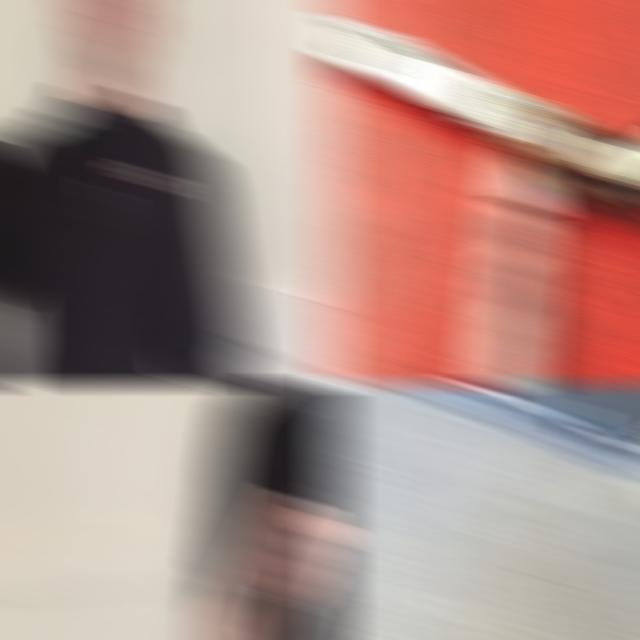Knife_Handle: (227, 489, 344, 640)
